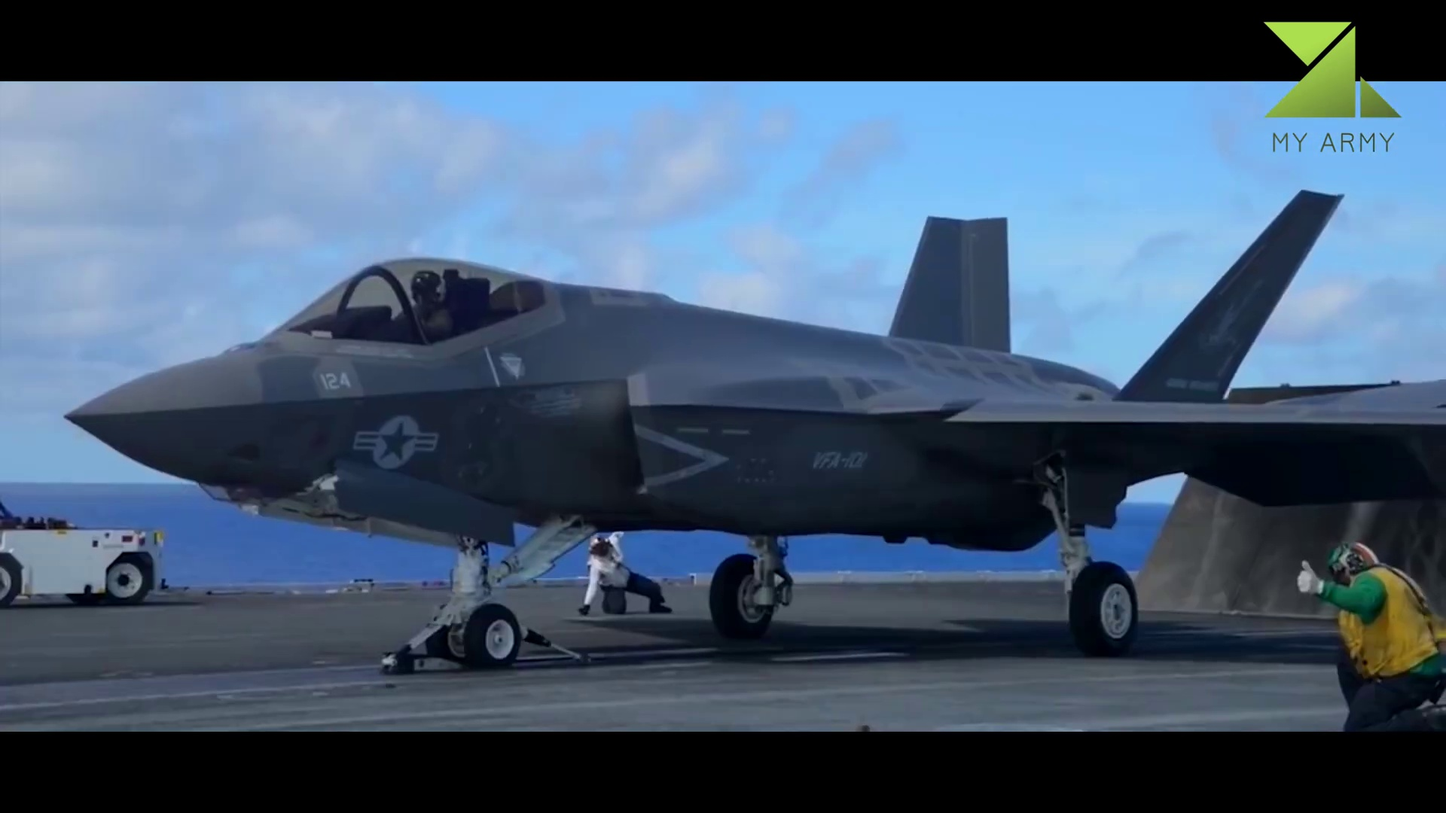F35: (51, 177, 1443, 676)
